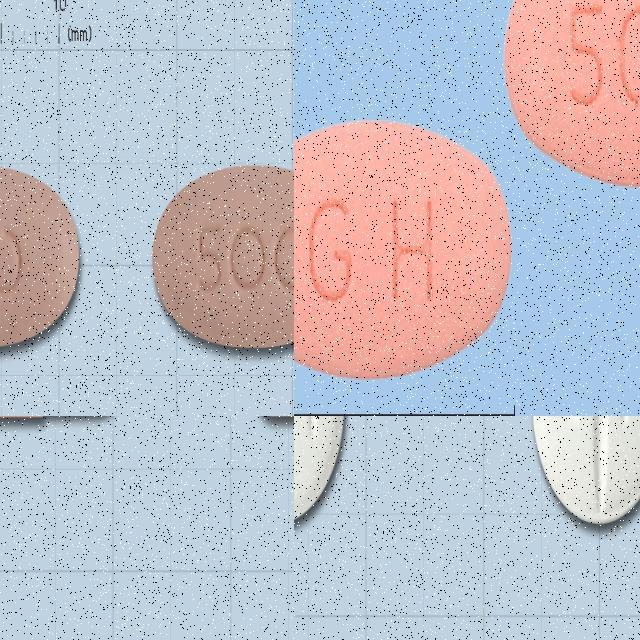Levona: (294, 120, 513, 381), (503, 0, 640, 185)
Qupron Tab: (531, 416, 640, 528)
Wooridul Ciprofloxacin Tab: (152, 163, 294, 348), (0, 163, 81, 350)
